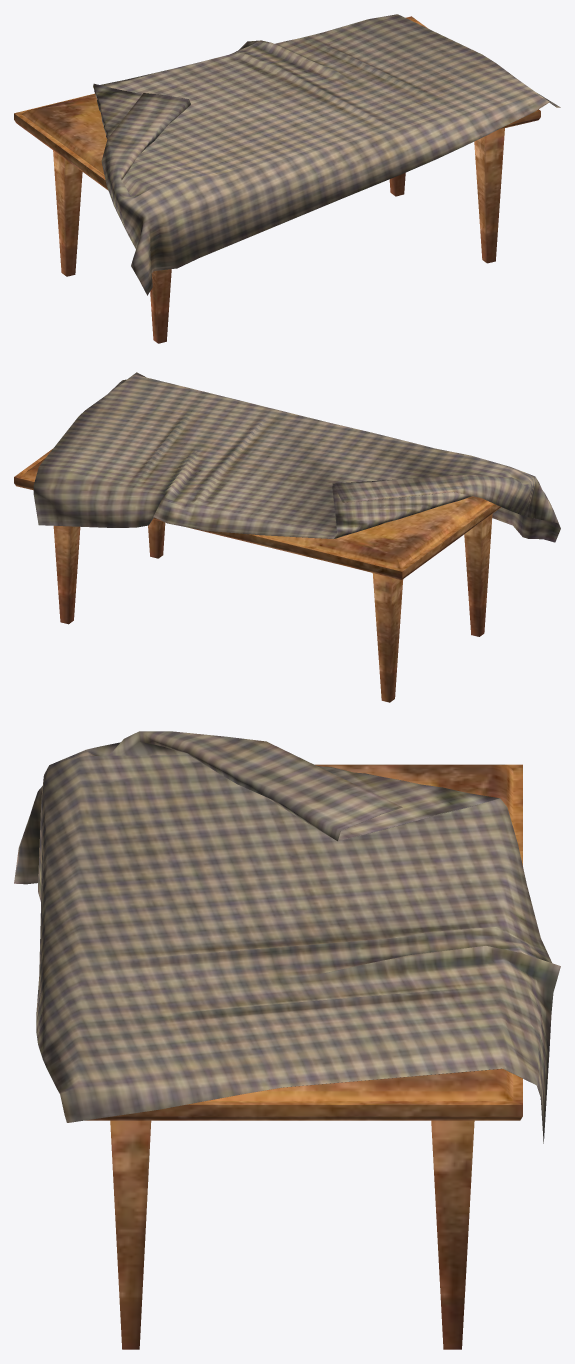
File: dining_table.glb
3 views of the same model, one above another, from view 1: azimuth 30°, elevation 25°; view 2: azimuth 150°, elevation 25°; view 3: azimuth 270°, elevation 25° (orthographic). The views are drawn at different scales.
Visible parts, largest first — view 1: dining_table_cloth, dining_table; view 2: dining_table_cloth, dining_table; view 3: dining_table_cloth, dining_table.
Part boxes in pixels (x1,y1,x2,y2): dining_table_cloth: [93, 14, 560, 295]; dining_table: [14, 16, 540, 343]; dining_table_cloth: [33, 372, 560, 542]; dining_table: [14, 449, 501, 702]; dining_table_cloth: [14, 731, 560, 1143]; dining_table: [85, 764, 522, 1349].
Bounding box in the file's own units: 2.26 × 0.877 × 1.39.
Materials: 1 (1 with a texture image).
